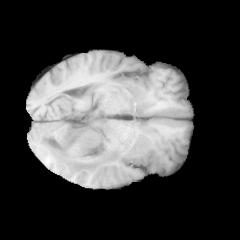glioma: (37, 123, 119, 176)
